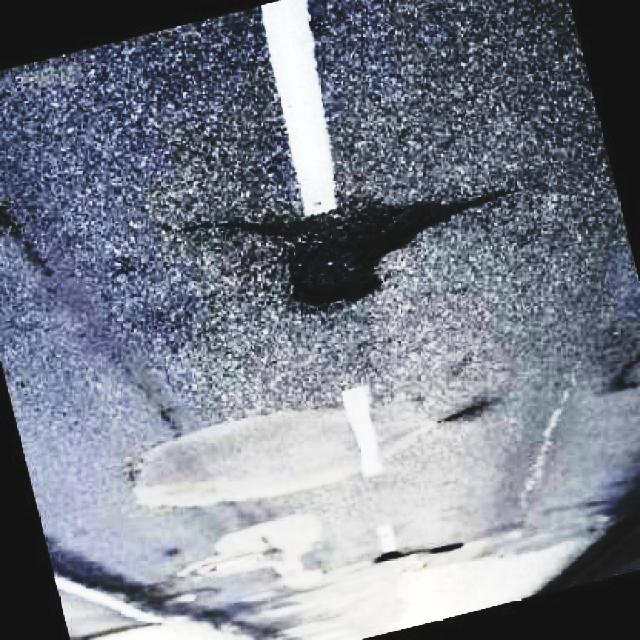pothole: (262, 200, 464, 308)
